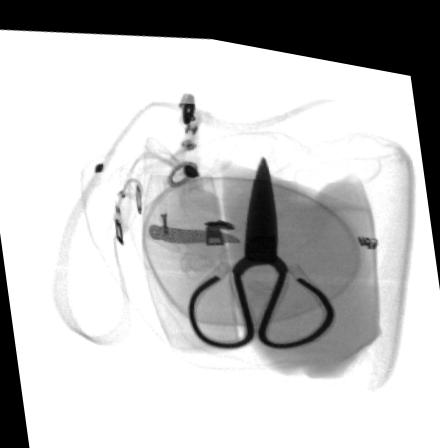Knife: (147, 218, 241, 235)
Scissors: (185, 143, 333, 341)
